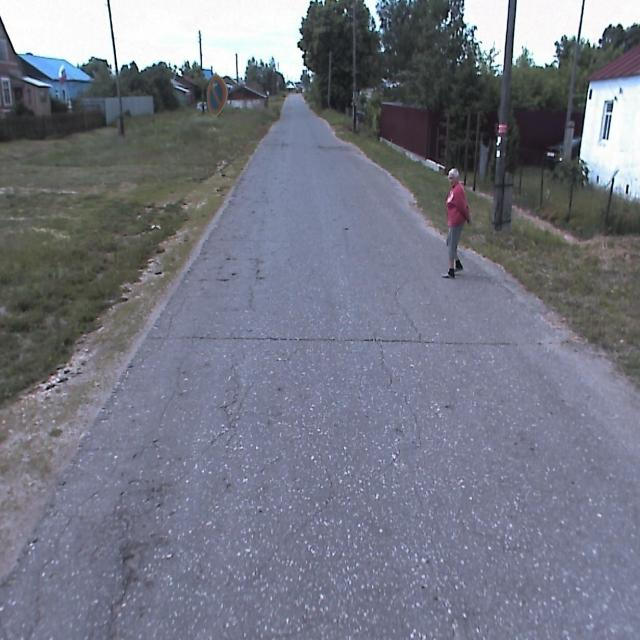road: (0, 93, 639, 639)
